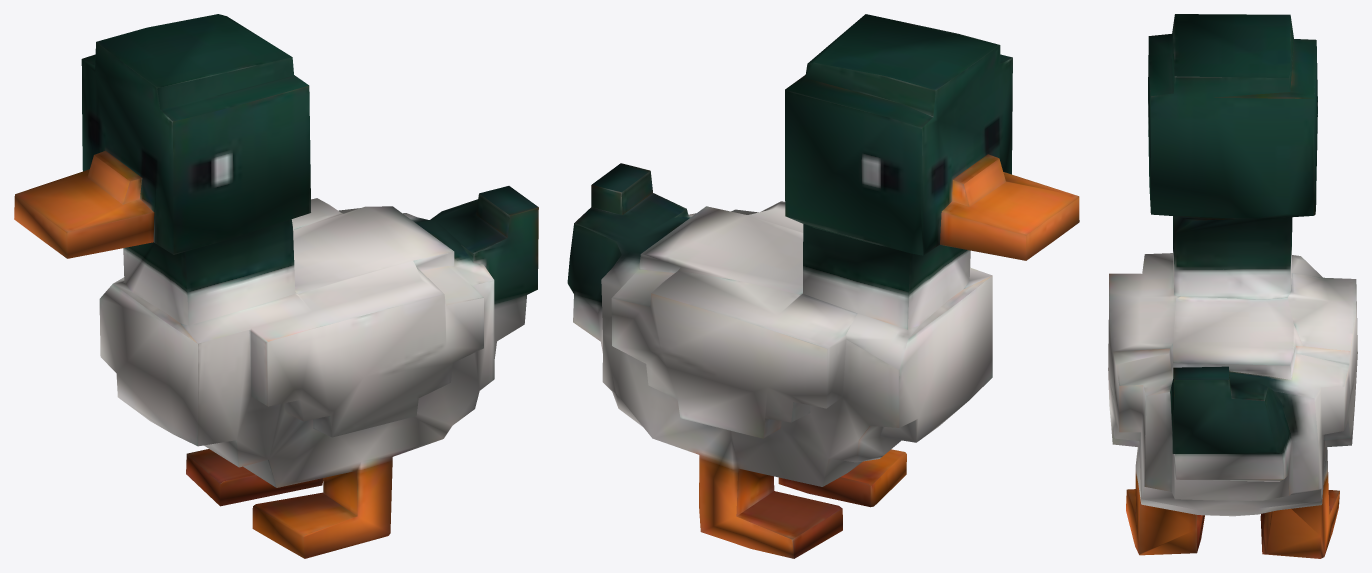
The model's file is duck.glb.
3 views of the same model, side by side, from view 1: azimuth 30°, elevation 25°; view 2: azimuth 150°, elevation 25°; view 3: azimuth 270°, elevation 25° (orthographic). The views are drawn at different scales.
Parts seen in each view (by area): view 1: material.001; view 2: material.001; view 3: material.001.
Part boxes in pixels (left/top/right/bottom): material.001: left=14, top=14, right=538, bottom=558; material.001: left=567, top=14, right=1079, bottom=558; material.001: left=1108, top=14, right=1357, bottom=558.
Size of the model in its own units: 0.9994 by 0.9971 by 0.5036.
1 material, 1 textured.
